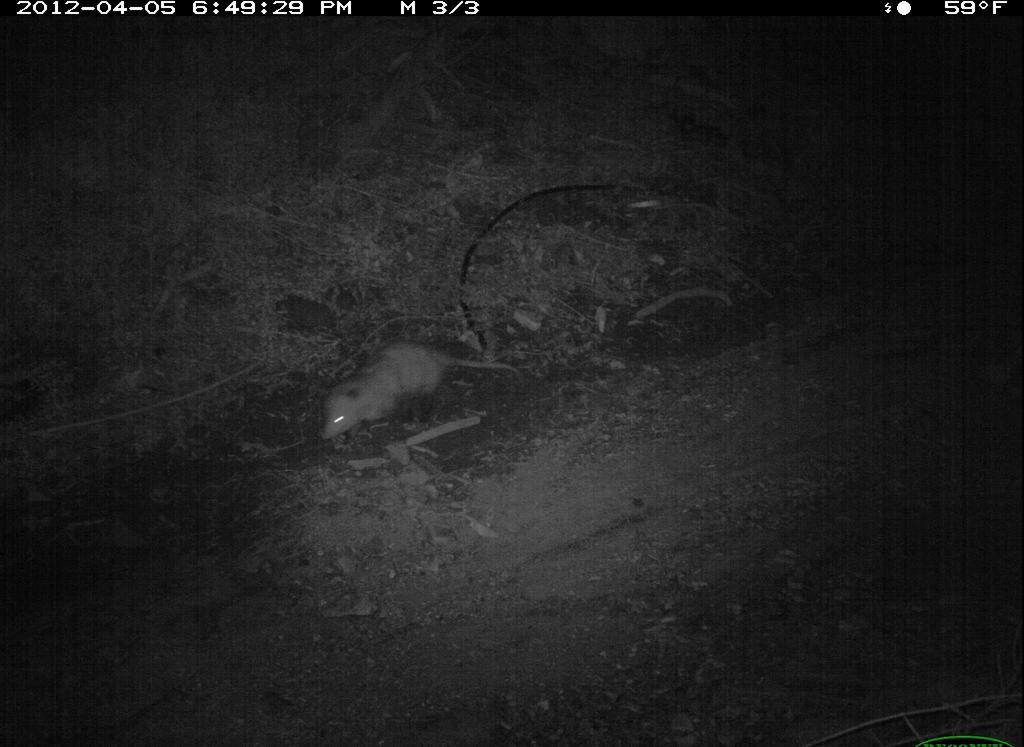opossum: (317, 333, 528, 451)
